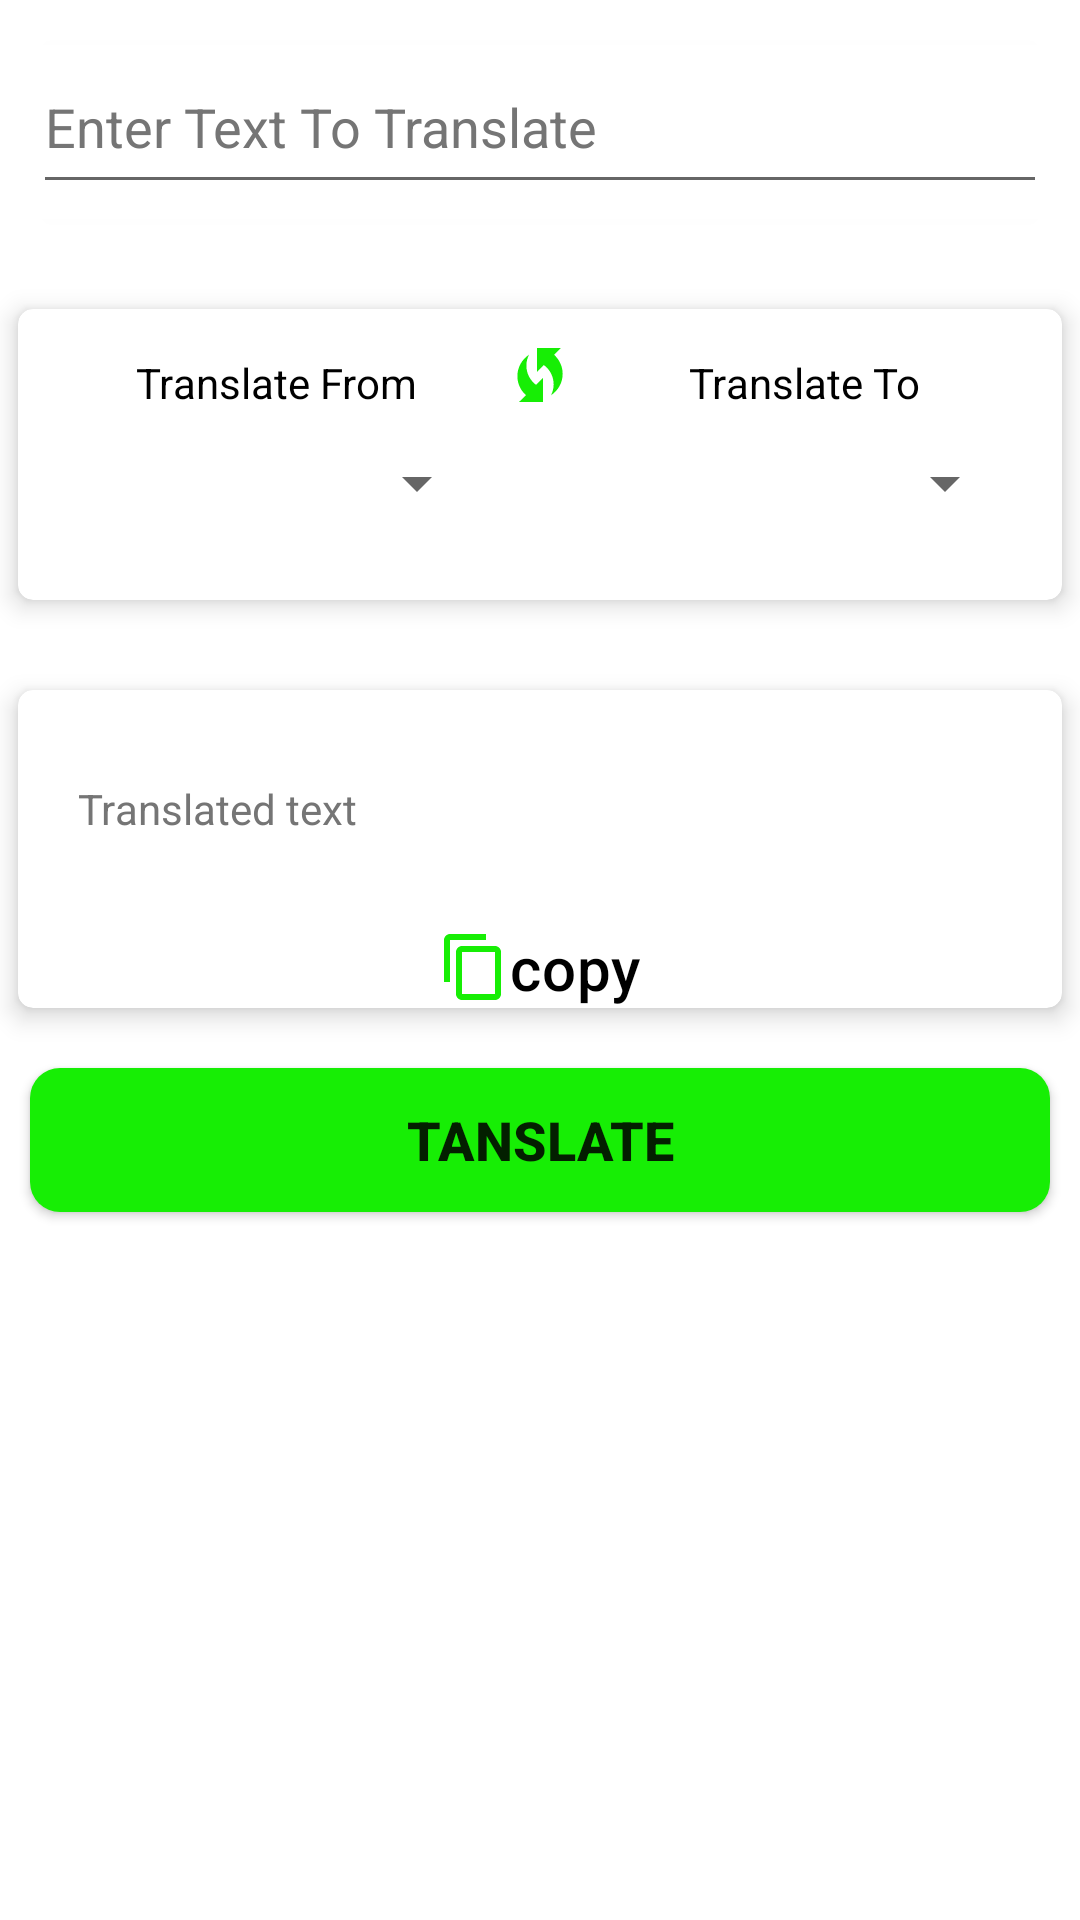

Point at icon controls on the screen. Image size 1080*1920, points as [x,y].
rot: [540,375]
